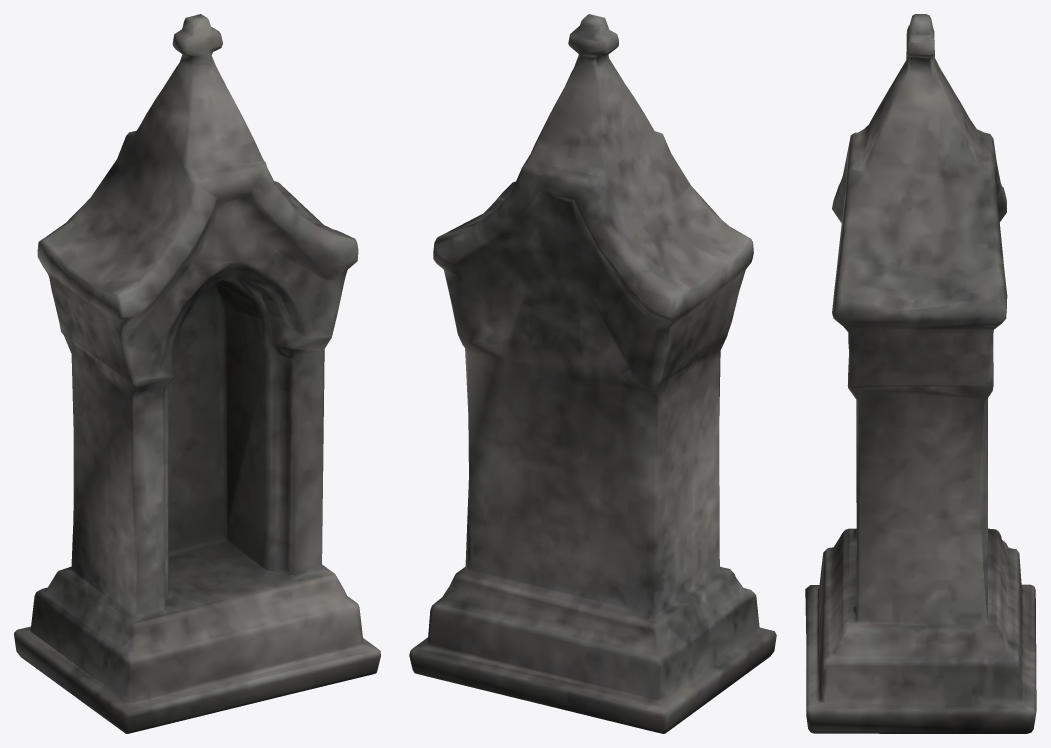
Rendered from weathered-granite-shrine-v001.glb.
The picture shows the model from 3 angles, left to right: view 1: azimuth 30°, elevation 25°; view 2: azimuth 150°, elevation 25°; view 3: azimuth 270°, elevation 25°; orthographic projection.
Parts seen in each view (by area): view 1: weathered-granite-shrine; view 2: weathered-granite-shrine; view 3: weathered-granite-shrine.
Boxes of the visible parts, box(x1,y1,x2,y2) form: weathered-granite-shrine: box(14, 14, 380, 733); weathered-granite-shrine: box(409, 14, 776, 733); weathered-granite-shrine: box(805, 14, 1036, 733).
Bounding box in the file's own units: 0.4121 × 0.9882 × 0.3161.
1 material, 1 textured.
